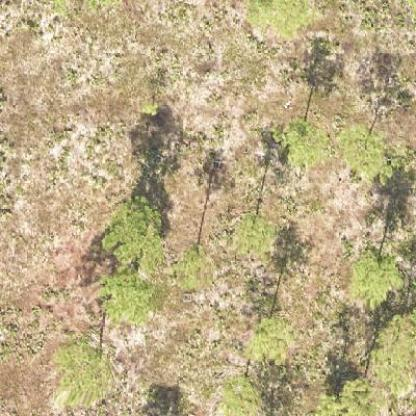tree-top: (45, 339, 127, 413), (96, 198, 174, 270), (96, 270, 166, 324), (343, 247, 404, 308), (335, 123, 392, 184), (272, 118, 337, 170), (244, 312, 296, 367), (237, 0, 316, 34), (170, 242, 221, 292), (211, 376, 265, 415), (231, 212, 279, 255)
